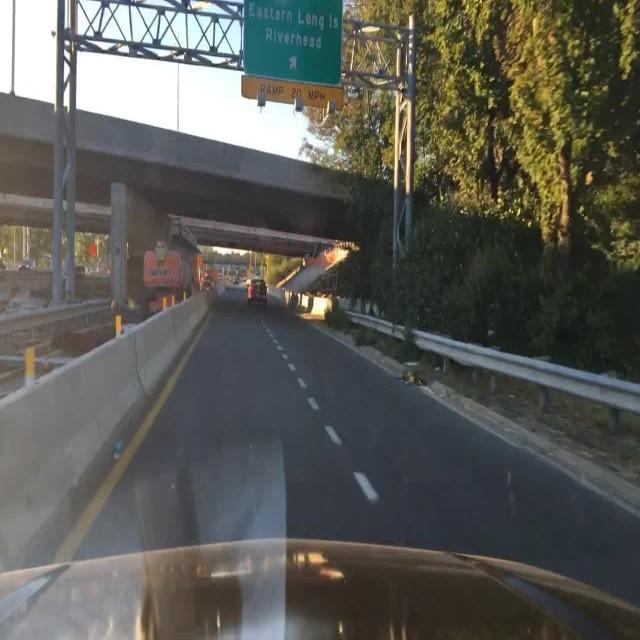normal: (236, 262, 285, 318)
